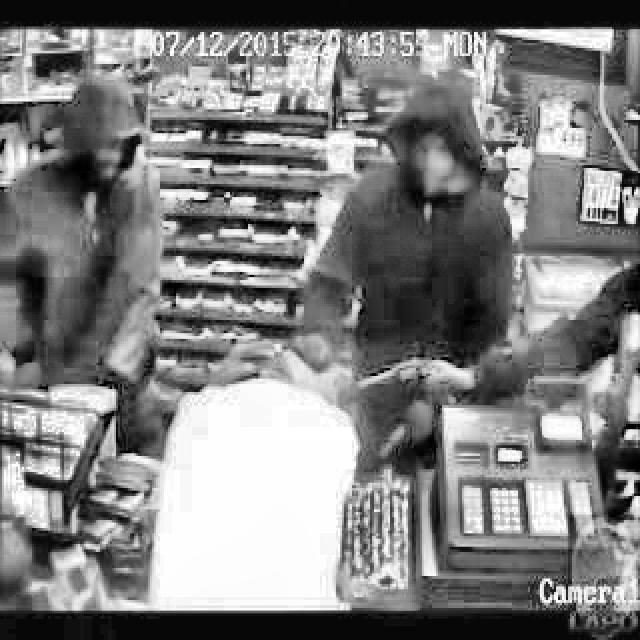robbery: (293, 71, 534, 429), (0, 70, 175, 450)
